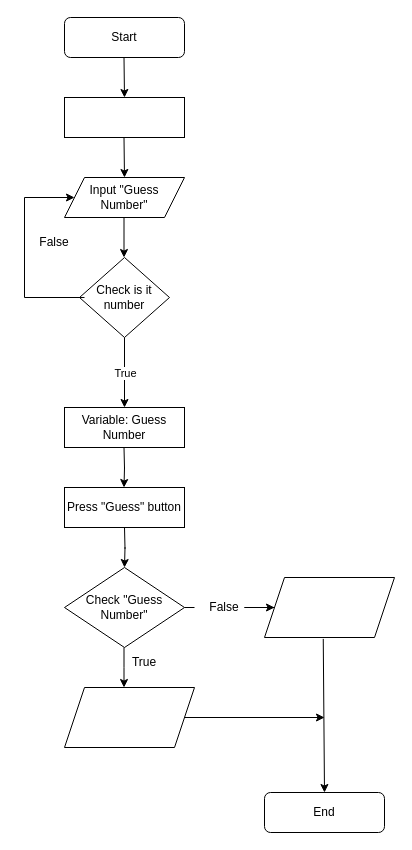
Some shapes in this 412 by 850 pixel diagram are drawn without their labels. Each missing label, with the centre of its shape:
Password Correct: (x=129, y=717)
Password Incorrect: (x=329, y=607)
Stored "password": (x=124, y=117)
